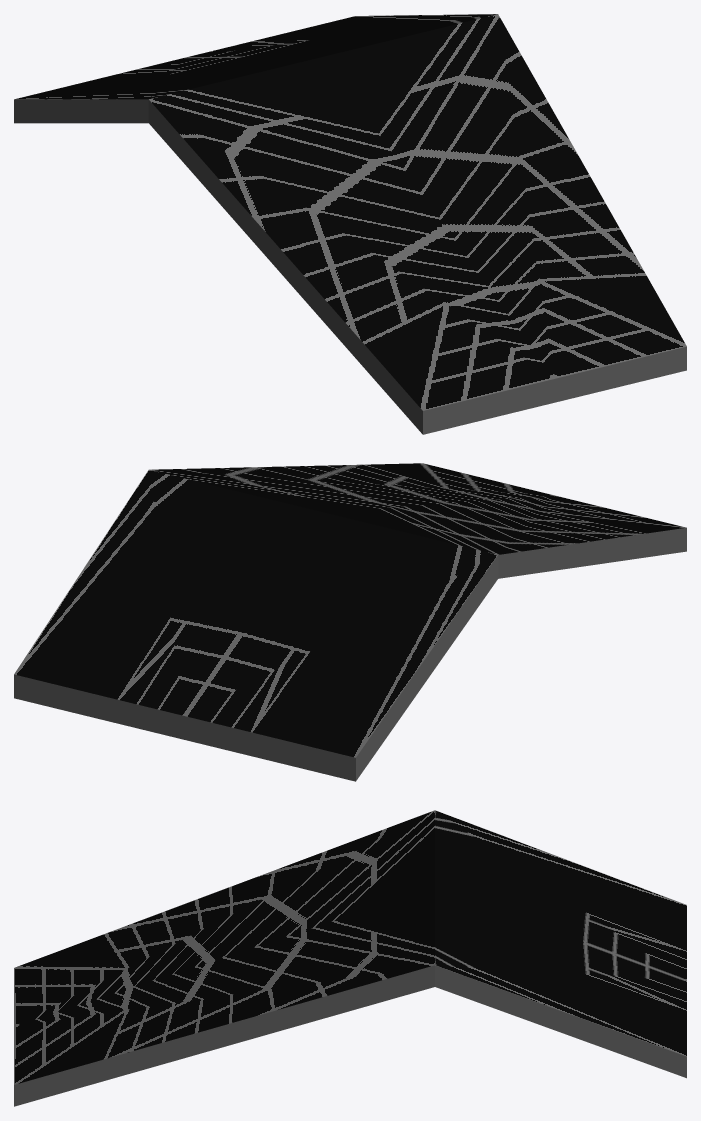
The model's file is itemlid.glb.
3 renders of one model, top to bottom at view 1: azimuth 30°, elevation 25°; view 2: azimuth 150°, elevation 25°; view 3: azimuth 270°, elevation 25°, orthographic. The views are drawn at different scales.
Visible parts, largest first — view 1: lid; view 2: lid; view 3: lid.
Part boxes in pixels (<box>): lid: <box>14,14,686,434</box>; lid: <box>14,463,686,781</box>; lid: <box>14,810,686,1106</box>.
Bounding box in the file's own units: 0.553 × 0.2669 × 1.01.
Materials: 1 (1 with a texture image).
